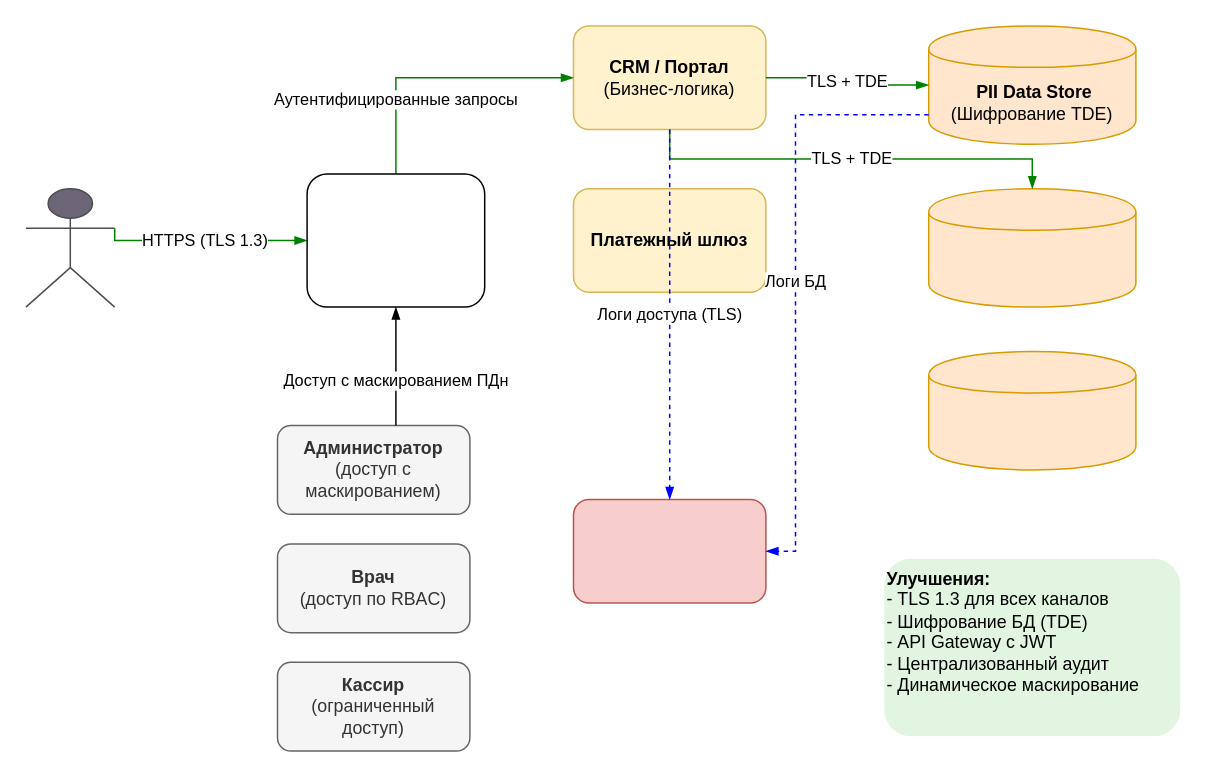
The diagram is 1206 pixels wide and 777 high, and some of its shapes have lost their labels. The centre of each missing label's shape, as x and y in pixels:
API Gateway (Аутентификация, JWT, Rate Limiting): [395,239]
Audit & SIEM (Сбор логов, алерты): [669,550]
Medical Data Store (Шифрование, аудит): [1031,247]
Объектное хранилище (Шифрование файлов): [1031,410]
